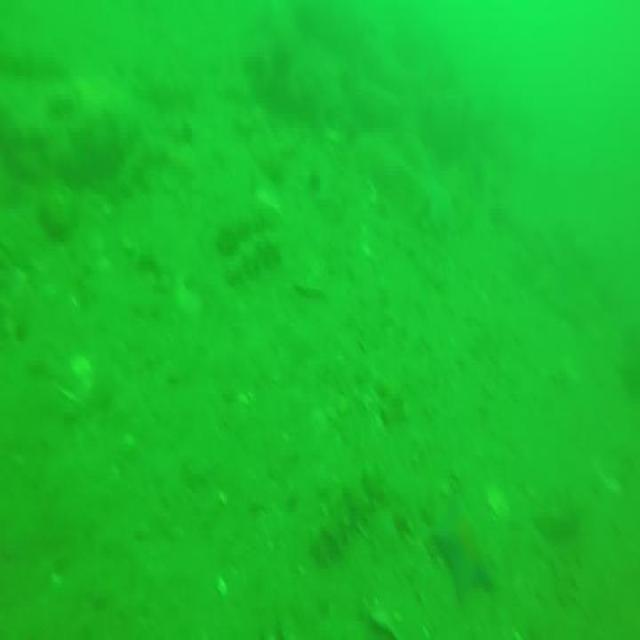holothurian: (310, 479, 392, 559), (226, 242, 290, 286), (218, 208, 277, 244)
scallop: (56, 352, 98, 402)
starfish: (429, 486, 496, 596)
